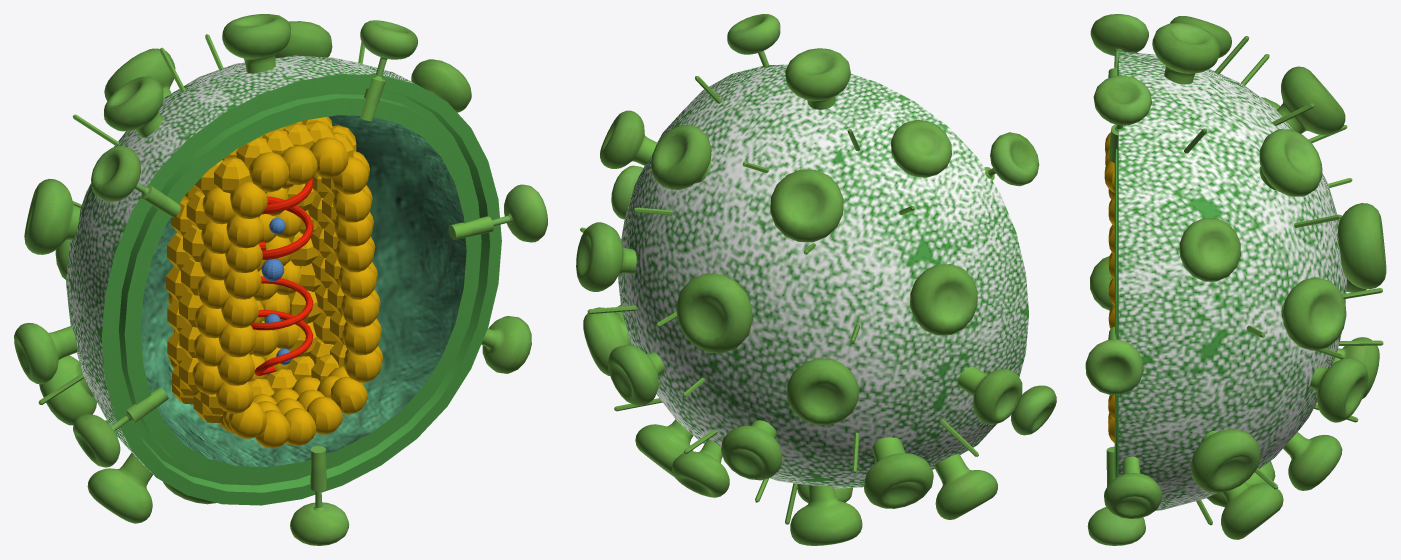
3 views of the same model, side by side, from view 1: azimuth 30°, elevation 25°; view 2: azimuth 150°, elevation 25°; view 3: azimuth 270°, elevation 25° (orthographic). The views are drawn at different scales.
Parts seen in each view (by area): view 1: polySurface83; view 2: polySurface83; view 3: polySurface83.
Boxes of the visible parts, bbox=[...] form: polySurface83: bbox=[14, 14, 547, 545]; polySurface83: bbox=[576, 14, 1056, 545]; polySurface83: bbox=[1085, 14, 1386, 545].
Size of the model in its own units: 6.31 by 6.46 by 3.55.
